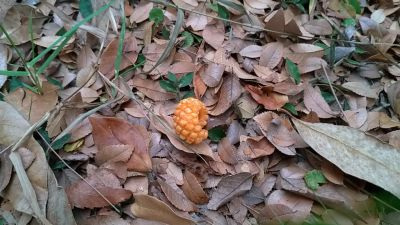eggs: (172, 95, 211, 146)
